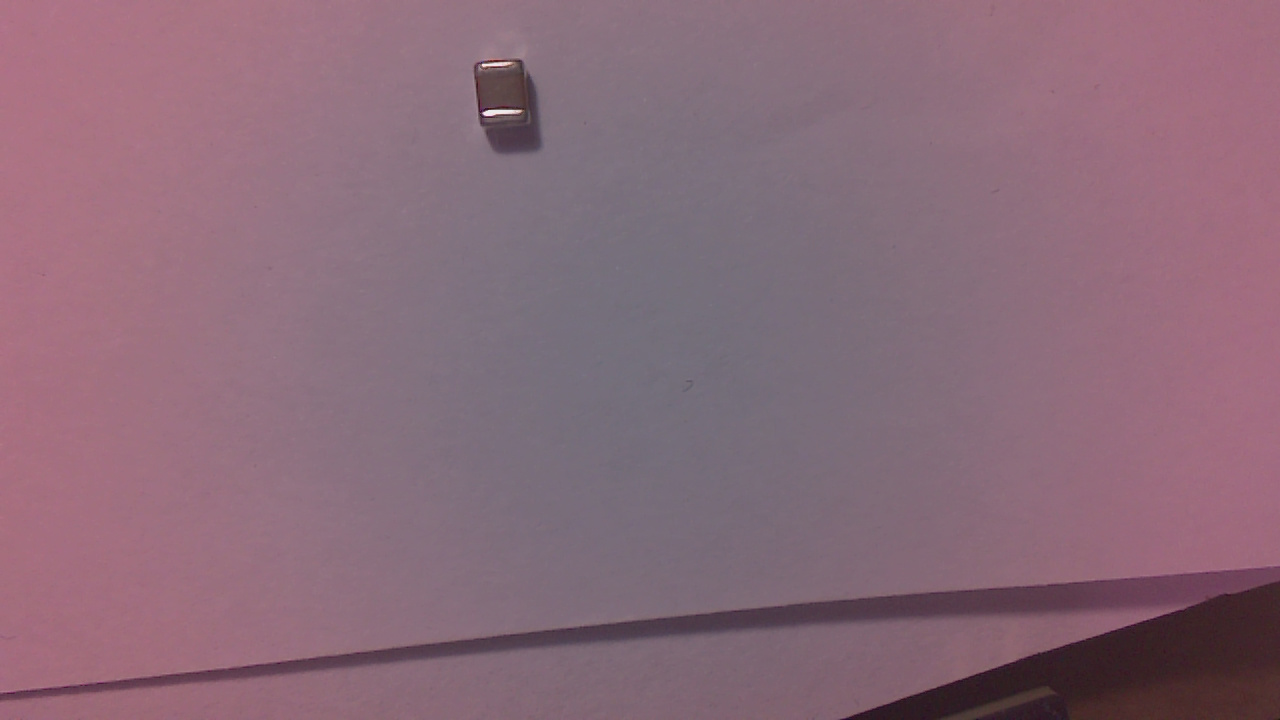Condensator: (475, 62, 540, 131)
